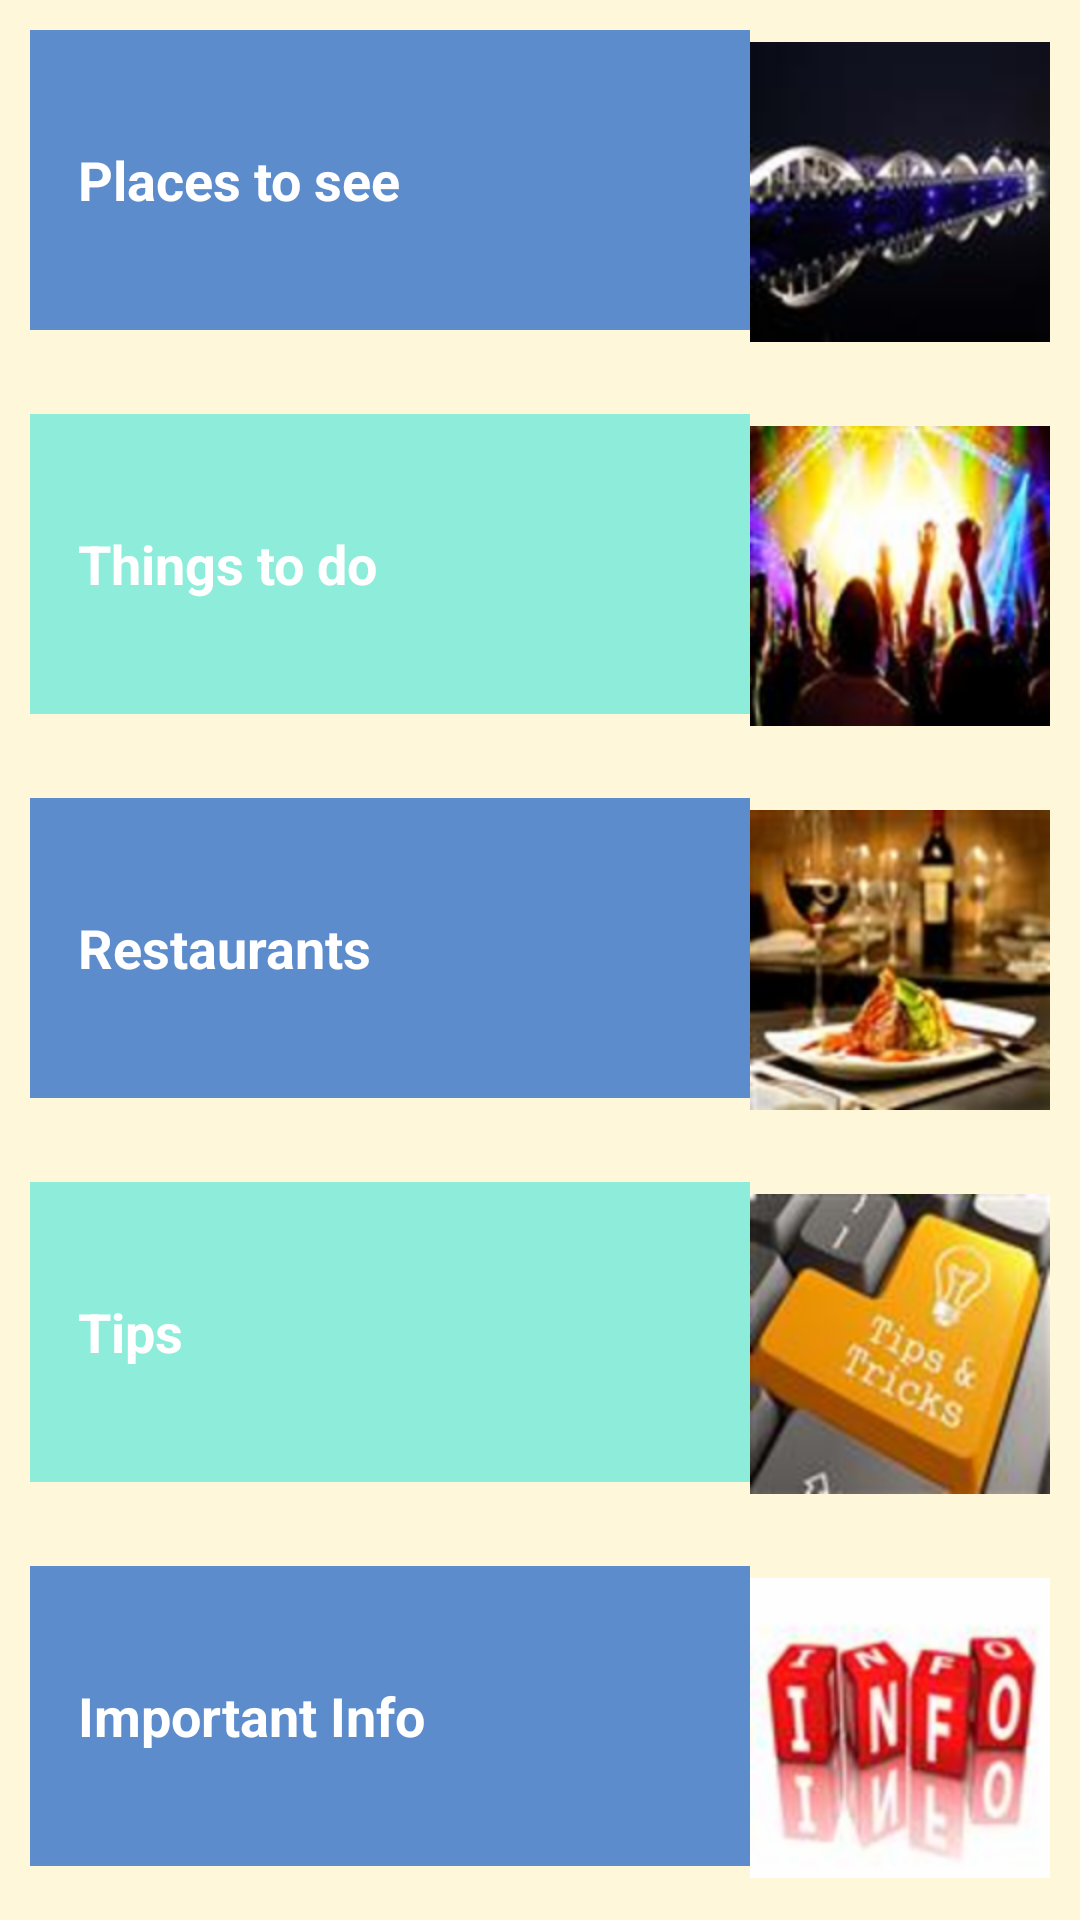

Where to tap for icons on this 1080 x 1920 app screen, as [x,y]:
eat: [900,960]
